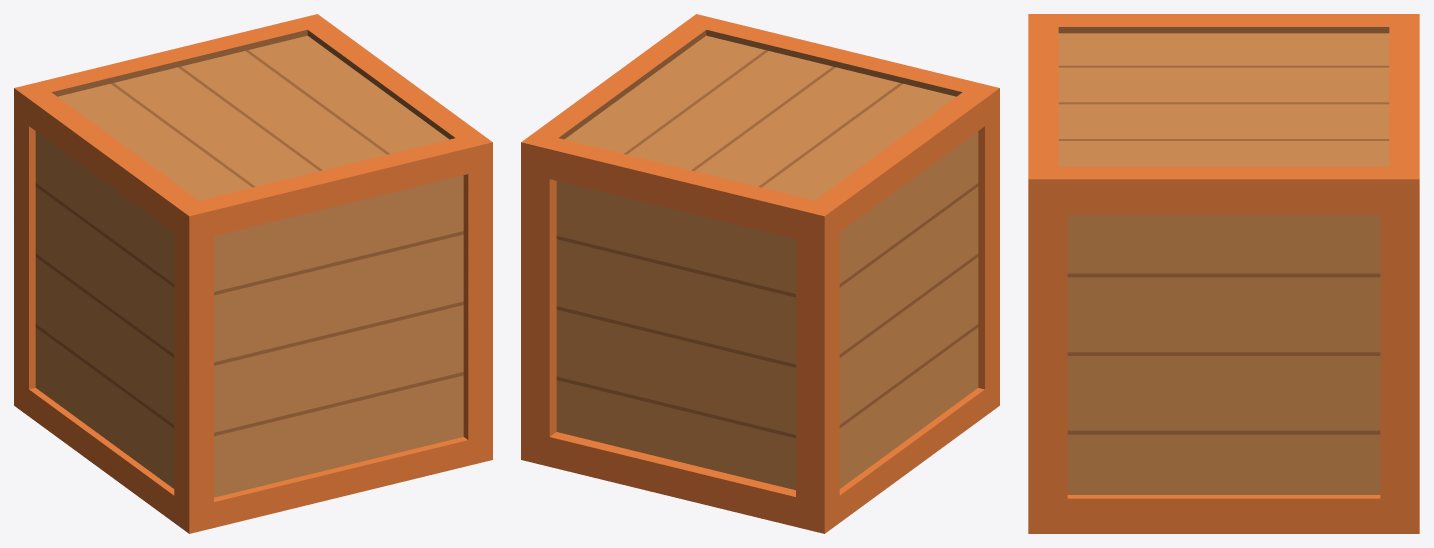
The model's file is boxes.fbx.
3 views of the same model, side by side, from view 1: azimuth 30°, elevation 25°; view 2: azimuth 150°, elevation 25°; view 3: azimuth 270°, elevation 25° (orthographic). The views are drawn at different scales.
Visible parts, largest first — view 1: boxes; view 2: boxes; view 3: boxes.
Boxes of the visible parts, x1,y1,x2,y2 form: boxes: (14, 14, 492, 533); boxes: (521, 14, 999, 533); boxes: (1028, 14, 1419, 533).
Bounding box in the file's own units: 81.53 × 81.53 × 81.53.
